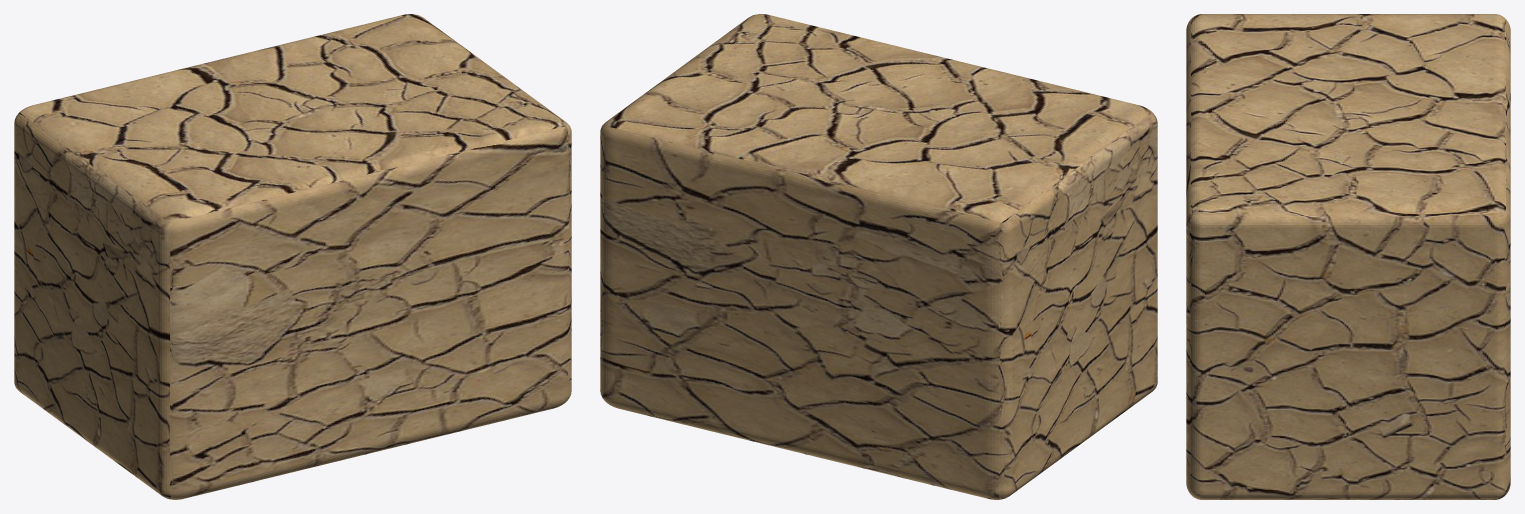
3 views of the same model, side by side, from view 1: azimuth 30°, elevation 25°; view 2: azimuth 150°, elevation 25°; view 3: azimuth 270°, elevation 25° (orthographic). The views are drawn at different scales.
Parts seen in each view (by area): view 1: 立方体; view 2: 立方体; view 3: 立方体.
Part boxes in pixels (left/top/right/bottom): 立方体: left=14, top=14, right=571, bottom=499; 立方体: left=600, top=14, right=1157, bottom=499; 立方体: left=1186, top=14, right=1510, bottom=499.
Size of the model in its own units: 300 by 200 by 200.
